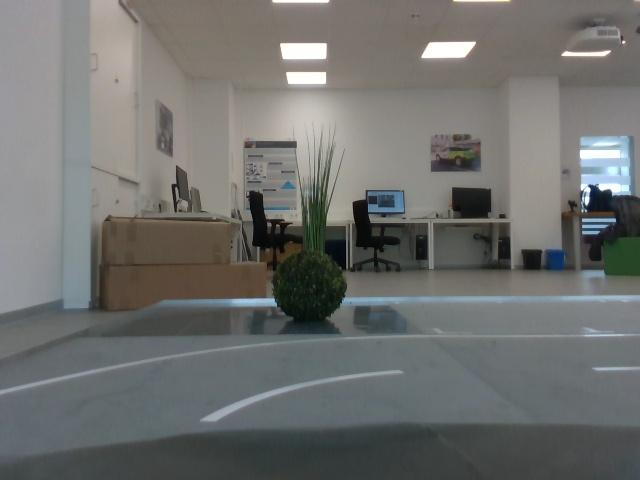potted plant: (286, 129, 353, 252), (264, 253, 349, 324)
